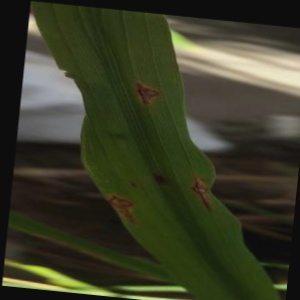Brown_Spot: (115, 54, 182, 117), (87, 174, 143, 227), (176, 156, 222, 217)
